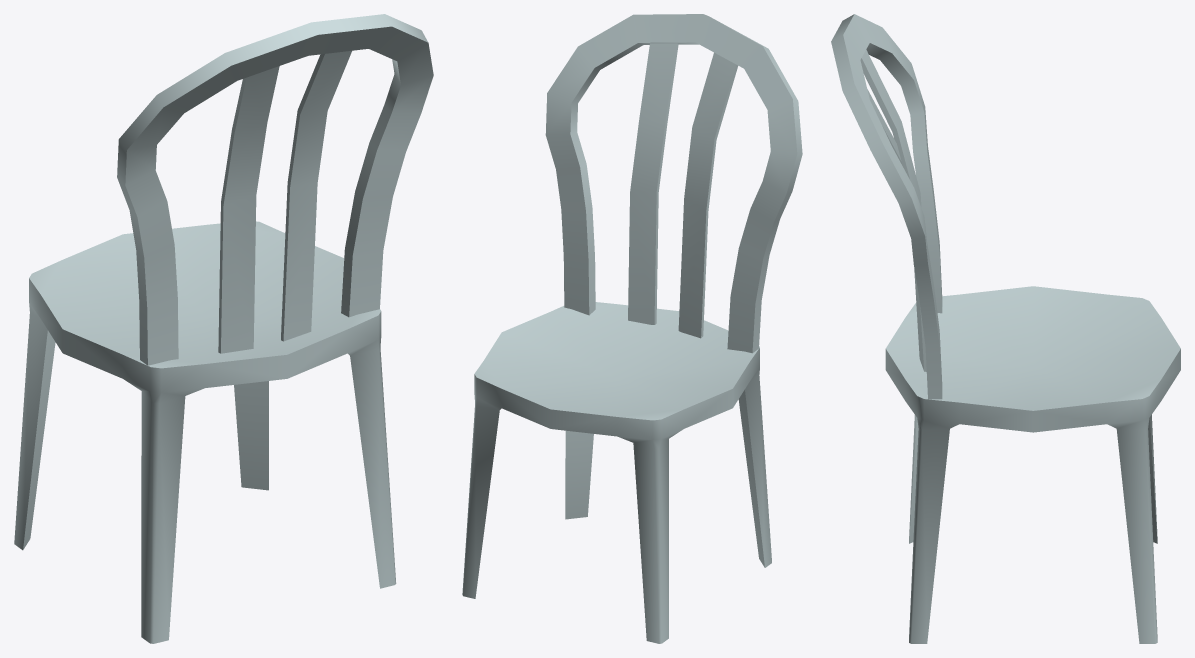
The model's file is SM_Chair.FBX.
3 views of the same model, side by side, from view 1: azimuth 30°, elevation 25°; view 2: azimuth 150°, elevation 25°; view 3: azimuth 270°, elevation 25° (orthographic). The views are drawn at different scales.
Parts seen in each view (by area): view 1: Chair; view 2: Chair; view 3: Chair.
Part boxes in pixels (box(x1,y1,x2,y2)): Chair: box(14, 14, 433, 643); Chair: box(462, 14, 802, 643); Chair: box(831, 14, 1180, 643).
Size of the model in its own units: 126 by 241 by 138.
Materials: 1 (1 with a texture image).
